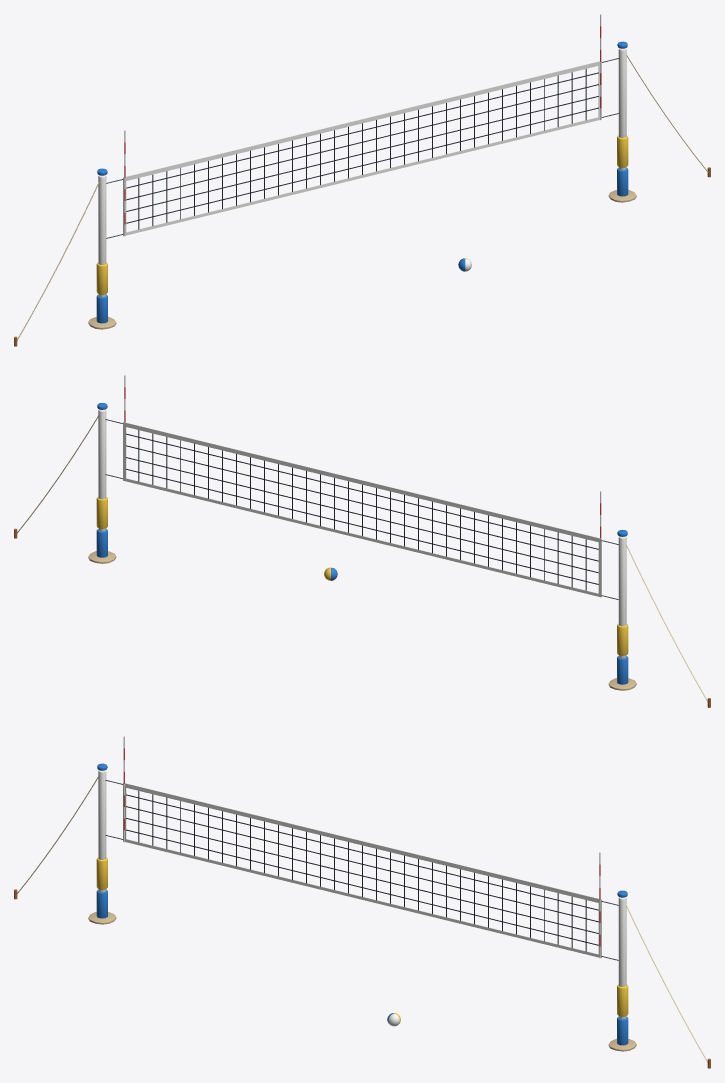
File: rede_volei_praia.glb
3 views of the same model, one above another, from view 1: azimuth 30°, elevation 25°; view 2: azimuth 150°, elevation 25°; view 3: azimuth 330°, elevation 25° (orthographic).
Visible parts, largest first — view 1: rede_volei_praia; view 2: rede_volei_praia; view 3: rede_volei_praia.
Boxes of the visible parts, box(x1,y1,x2,y2) form: rede_volei_praia: box(14, 14, 710, 346); rede_volei_praia: box(14, 375, 710, 707); rede_volei_praia: box(14, 736, 710, 1068).
Bounding box in the file's own units: 12.44 × 3.23 × 1.42.
1 material, 1 textured.
